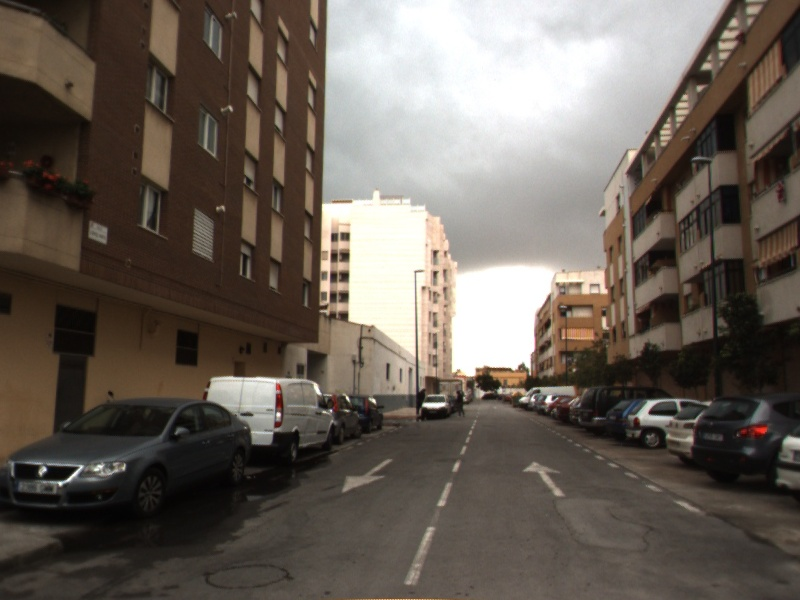STRAIGHT: (520, 459, 569, 499)
